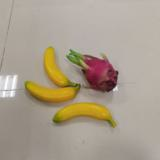pitaya: (70, 49, 119, 90)
